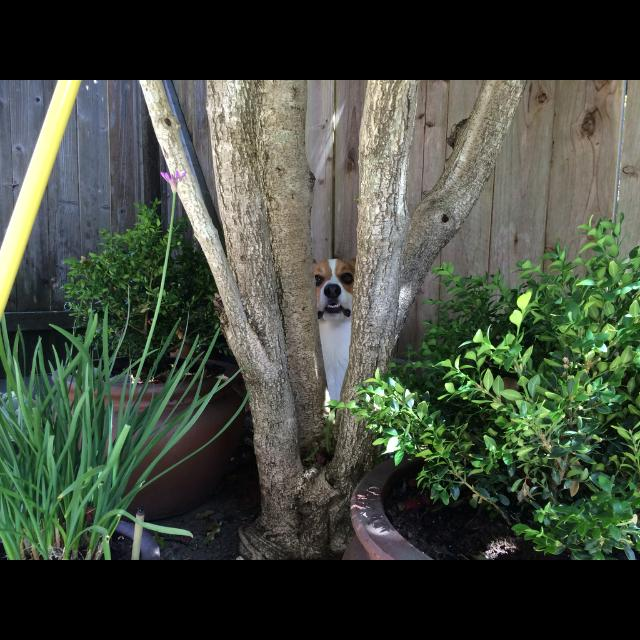Flower: (160, 170, 188, 192)
